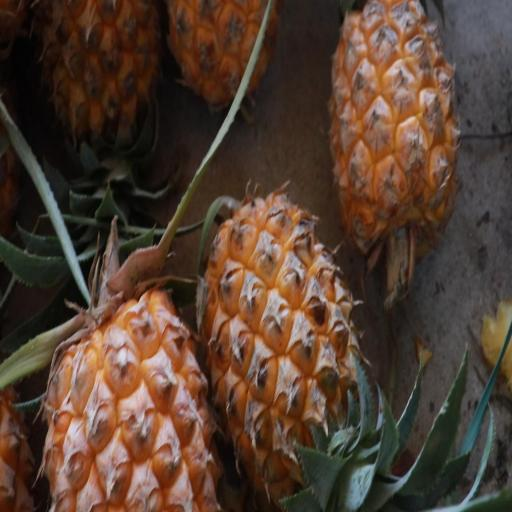Pineapple - v8 v1: (39, 175, 222, 512), (195, 180, 366, 512), (328, 1, 468, 241), (30, 0, 162, 201)
